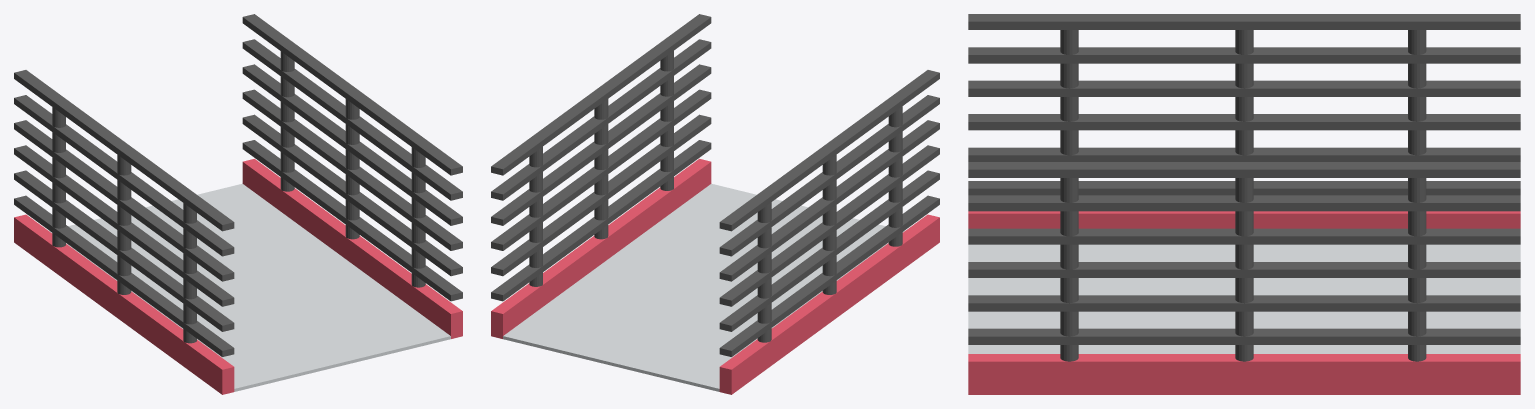
Rendered from straight.glb.
3 renders of one model, left to right at view 1: azimuth 30°, elevation 25°; view 2: azimuth 150°, elevation 25°; view 3: azimuth 270°, elevation 25°, orthographic. The views are drawn at different scales.
Visible parts, largest first — view 1: obj_0; view 2: obj_0; view 3: obj_0.
Part boxes in pixels (<box>): obj_0: <box>14,14,462,394</box>; obj_0: <box>491,14,939,394</box>; obj_0: <box>968,14,1520,394</box>.
Bounding box in the file's own units: 20 × 13.5 × 30.
